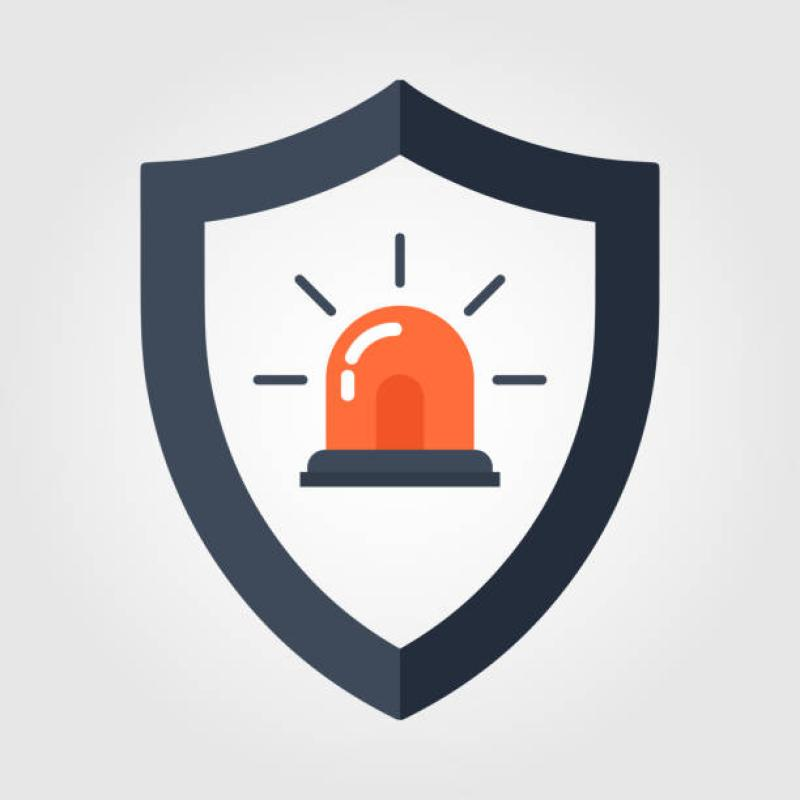AmbulanceSiren: (282, 280, 490, 516)
